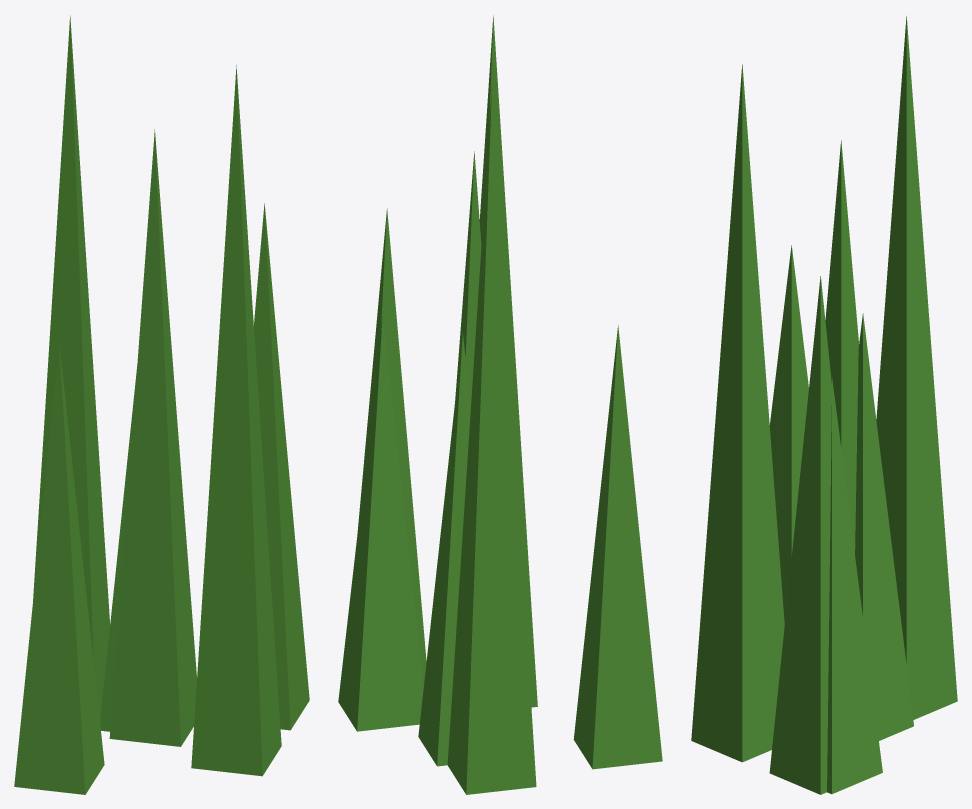
File: grass_tuft.glb
3 renders of one model, left to right at view 1: azimuth 30°, elevation 25°; view 2: azimuth 150°, elevation 25°; view 3: azimuth 270°, elevation 25°, orthographic. The views are drawn at different scales.
Size of the model in its own units: 0.206 by 0.4453 by 0.1564.
